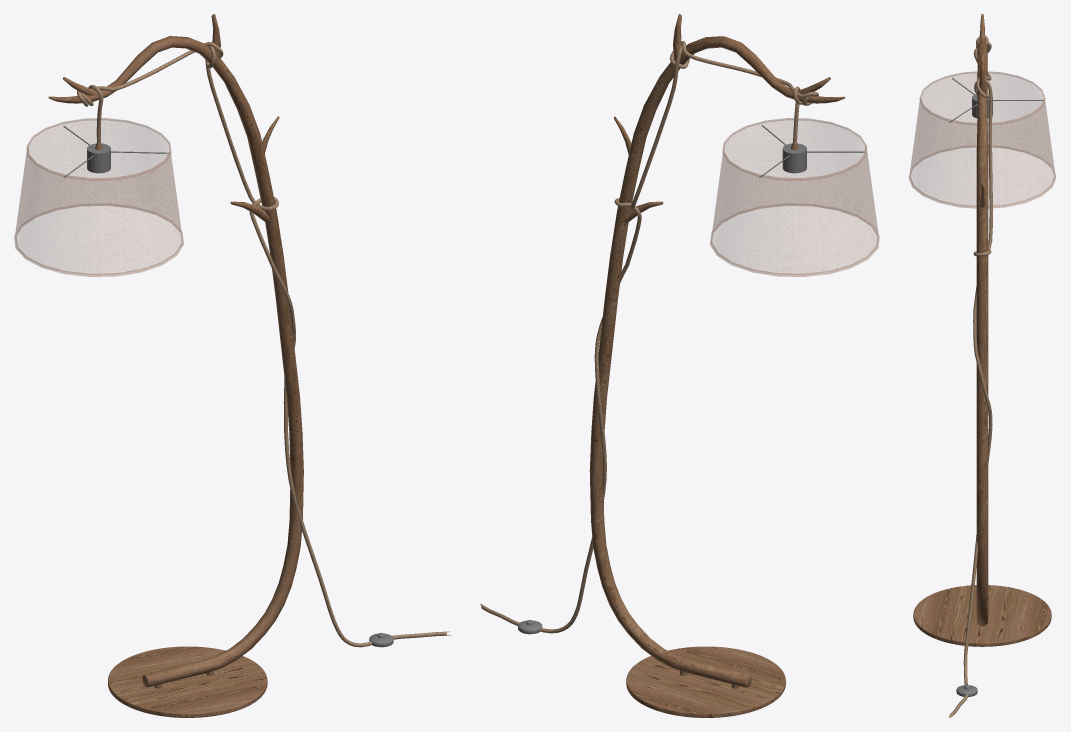
Rendered from wooden-floor-lamp.glb.
The picture shows the model from 3 angles, left to right: view 1: azimuth 30°, elevation 25°; view 2: azimuth 150°, elevation 25°; view 3: azimuth 270°, elevation 25°; orthographic projection. The views are drawn at different scales.
Parts seen in each view (by area): view 1: subscattering, wooden-floor-lamp.1, wooden-floor-lamp.2, wooden-floor-lamp.3; view 2: subscattering, wooden-floor-lamp.1, wooden-floor-lamp.2, wooden-floor-lamp.3; view 3: subscattering, wooden-floor-lamp.1, wooden-floor-lamp.2, wooden-floor-lamp.3.
Boxes of the visible parts, left/top/right/bottom form: subscattering: left=14, top=118, right=183, bottom=276; wooden-floor-lamp.1: left=48, top=14, right=303, bottom=717; wooden-floor-lamp.2: left=77, top=42, right=451, bottom=647; wooden-floor-lamp.3: left=63, top=126, right=393, bottom=647; subscattering: left=710, top=118, right=879, bottom=276; wooden-floor-lamp.1: left=589, top=14, right=845, bottom=717; wooden-floor-lamp.2: left=480, top=41, right=818, bottom=633; wooden-floor-lamp.3: left=518, top=125, right=864, bottom=634; subscattering: left=909, top=71, right=1055, bottom=208; wooden-floor-lamp.1: left=913, top=14, right=1051, bottom=646; wooden-floor-lamp.2: left=948, top=36, right=992, bottom=717; wooden-floor-lamp.3: left=949, top=78, right=1043, bottom=696.
Bounding box in the file's own units: 1.17 × 1.82 × 0.4237.
Materials: 4 (3 with a texture image).
